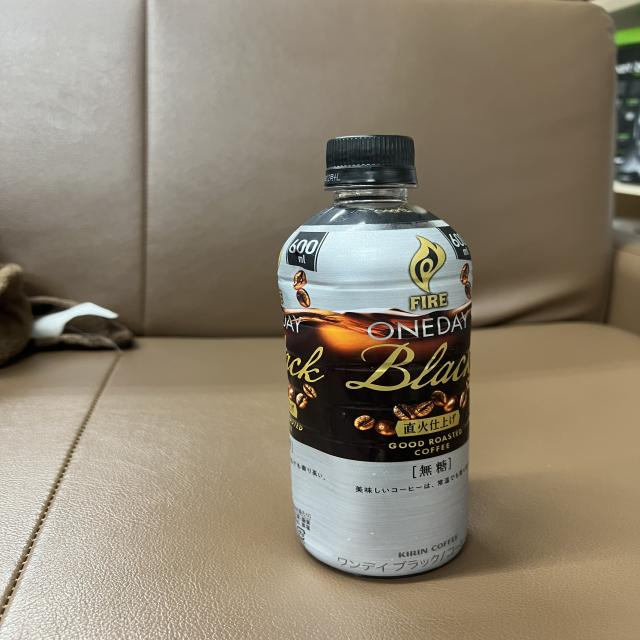coffee-black: (279, 132, 473, 577)
